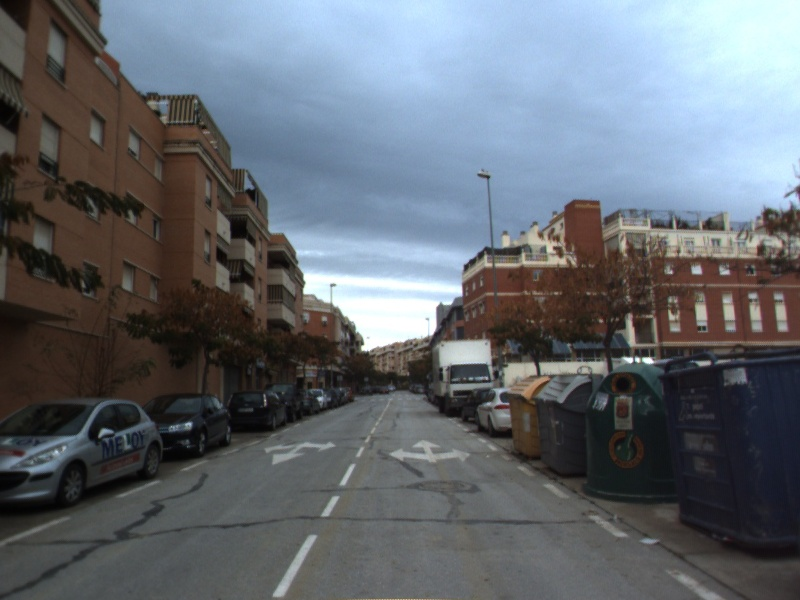STRAIGHT_LEFT_RIGHT: (386, 437, 473, 464)
